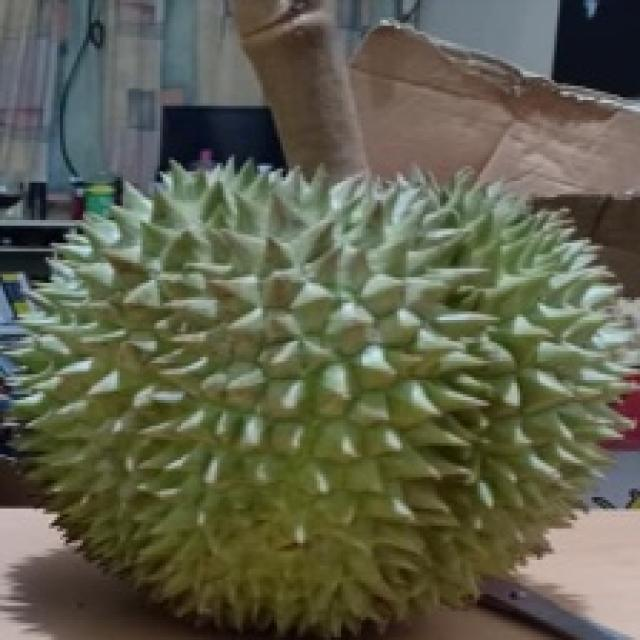d101: (34, 159, 624, 639)
